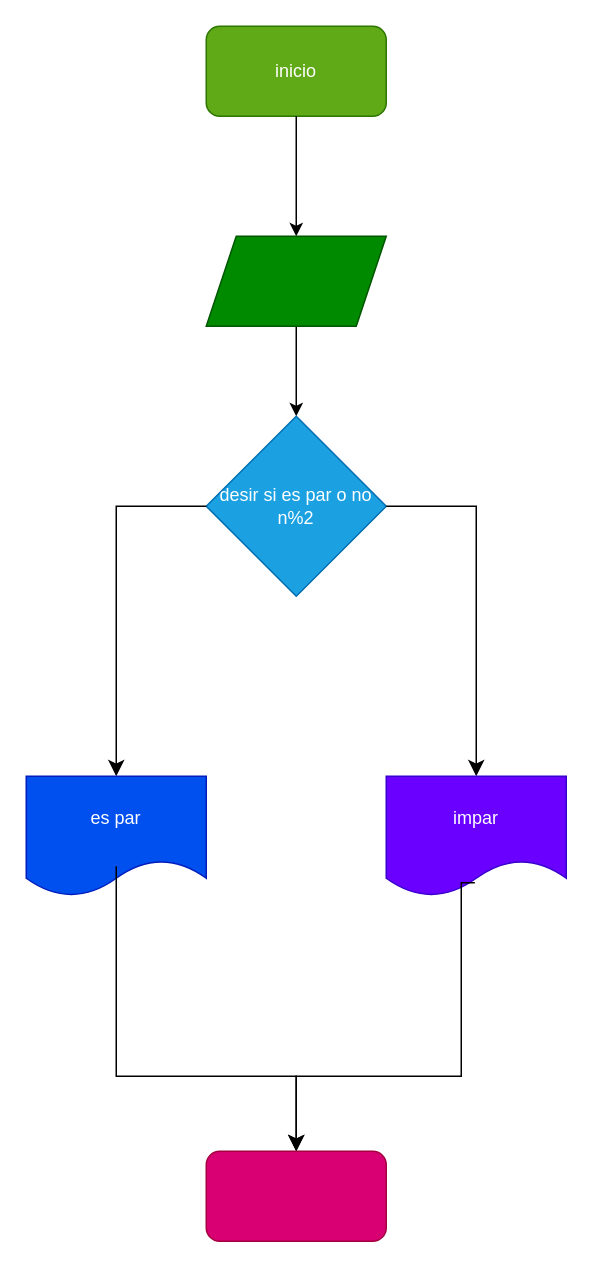
Some shapes in this 593 by 1268 pixel diagram are drawn without their labels. Here are the shapes that lost their labels. From the top down, the centre of each, then its label:
At pixel 295 280: "numero".
At pixel 295 1195: "fin".
